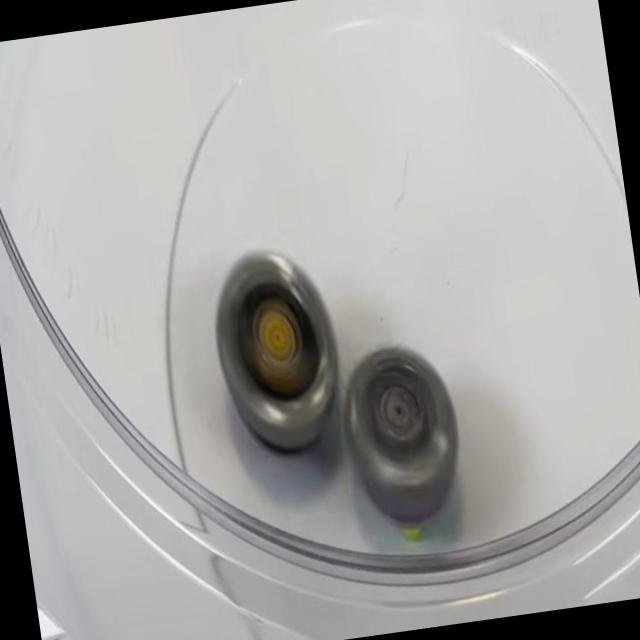Beyblade: (204, 240, 352, 465), (332, 333, 474, 538)
